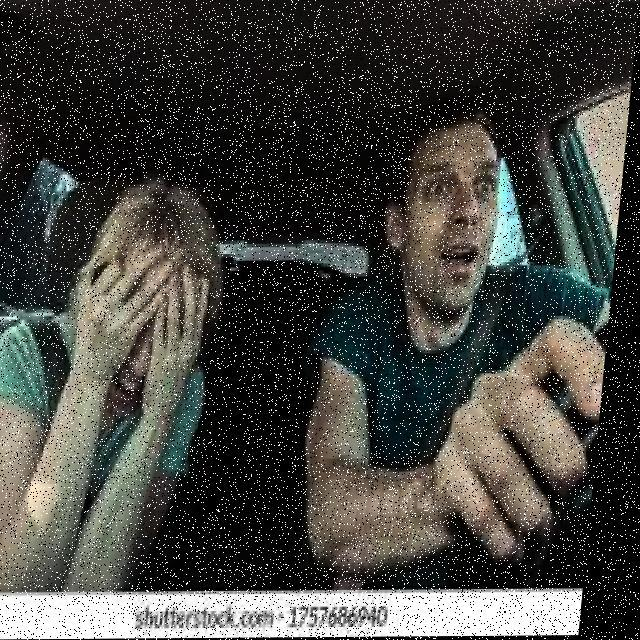seatbelt: (412, 233, 552, 465), (0, 270, 127, 507)
